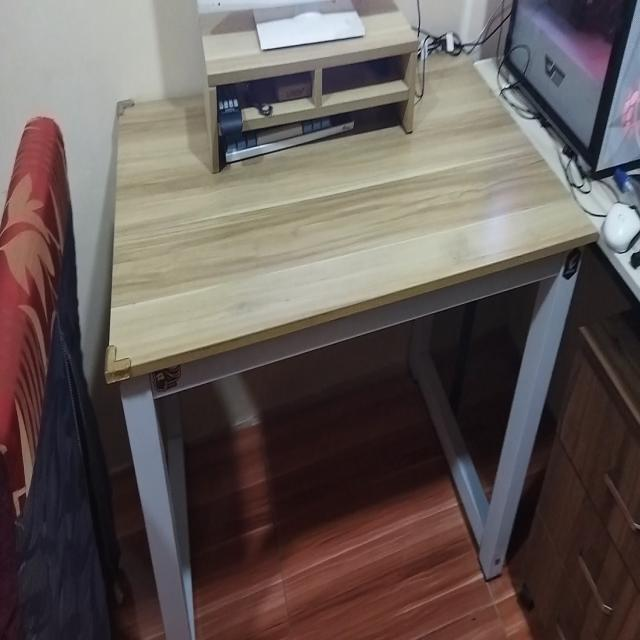table: (105, 28, 576, 640)
